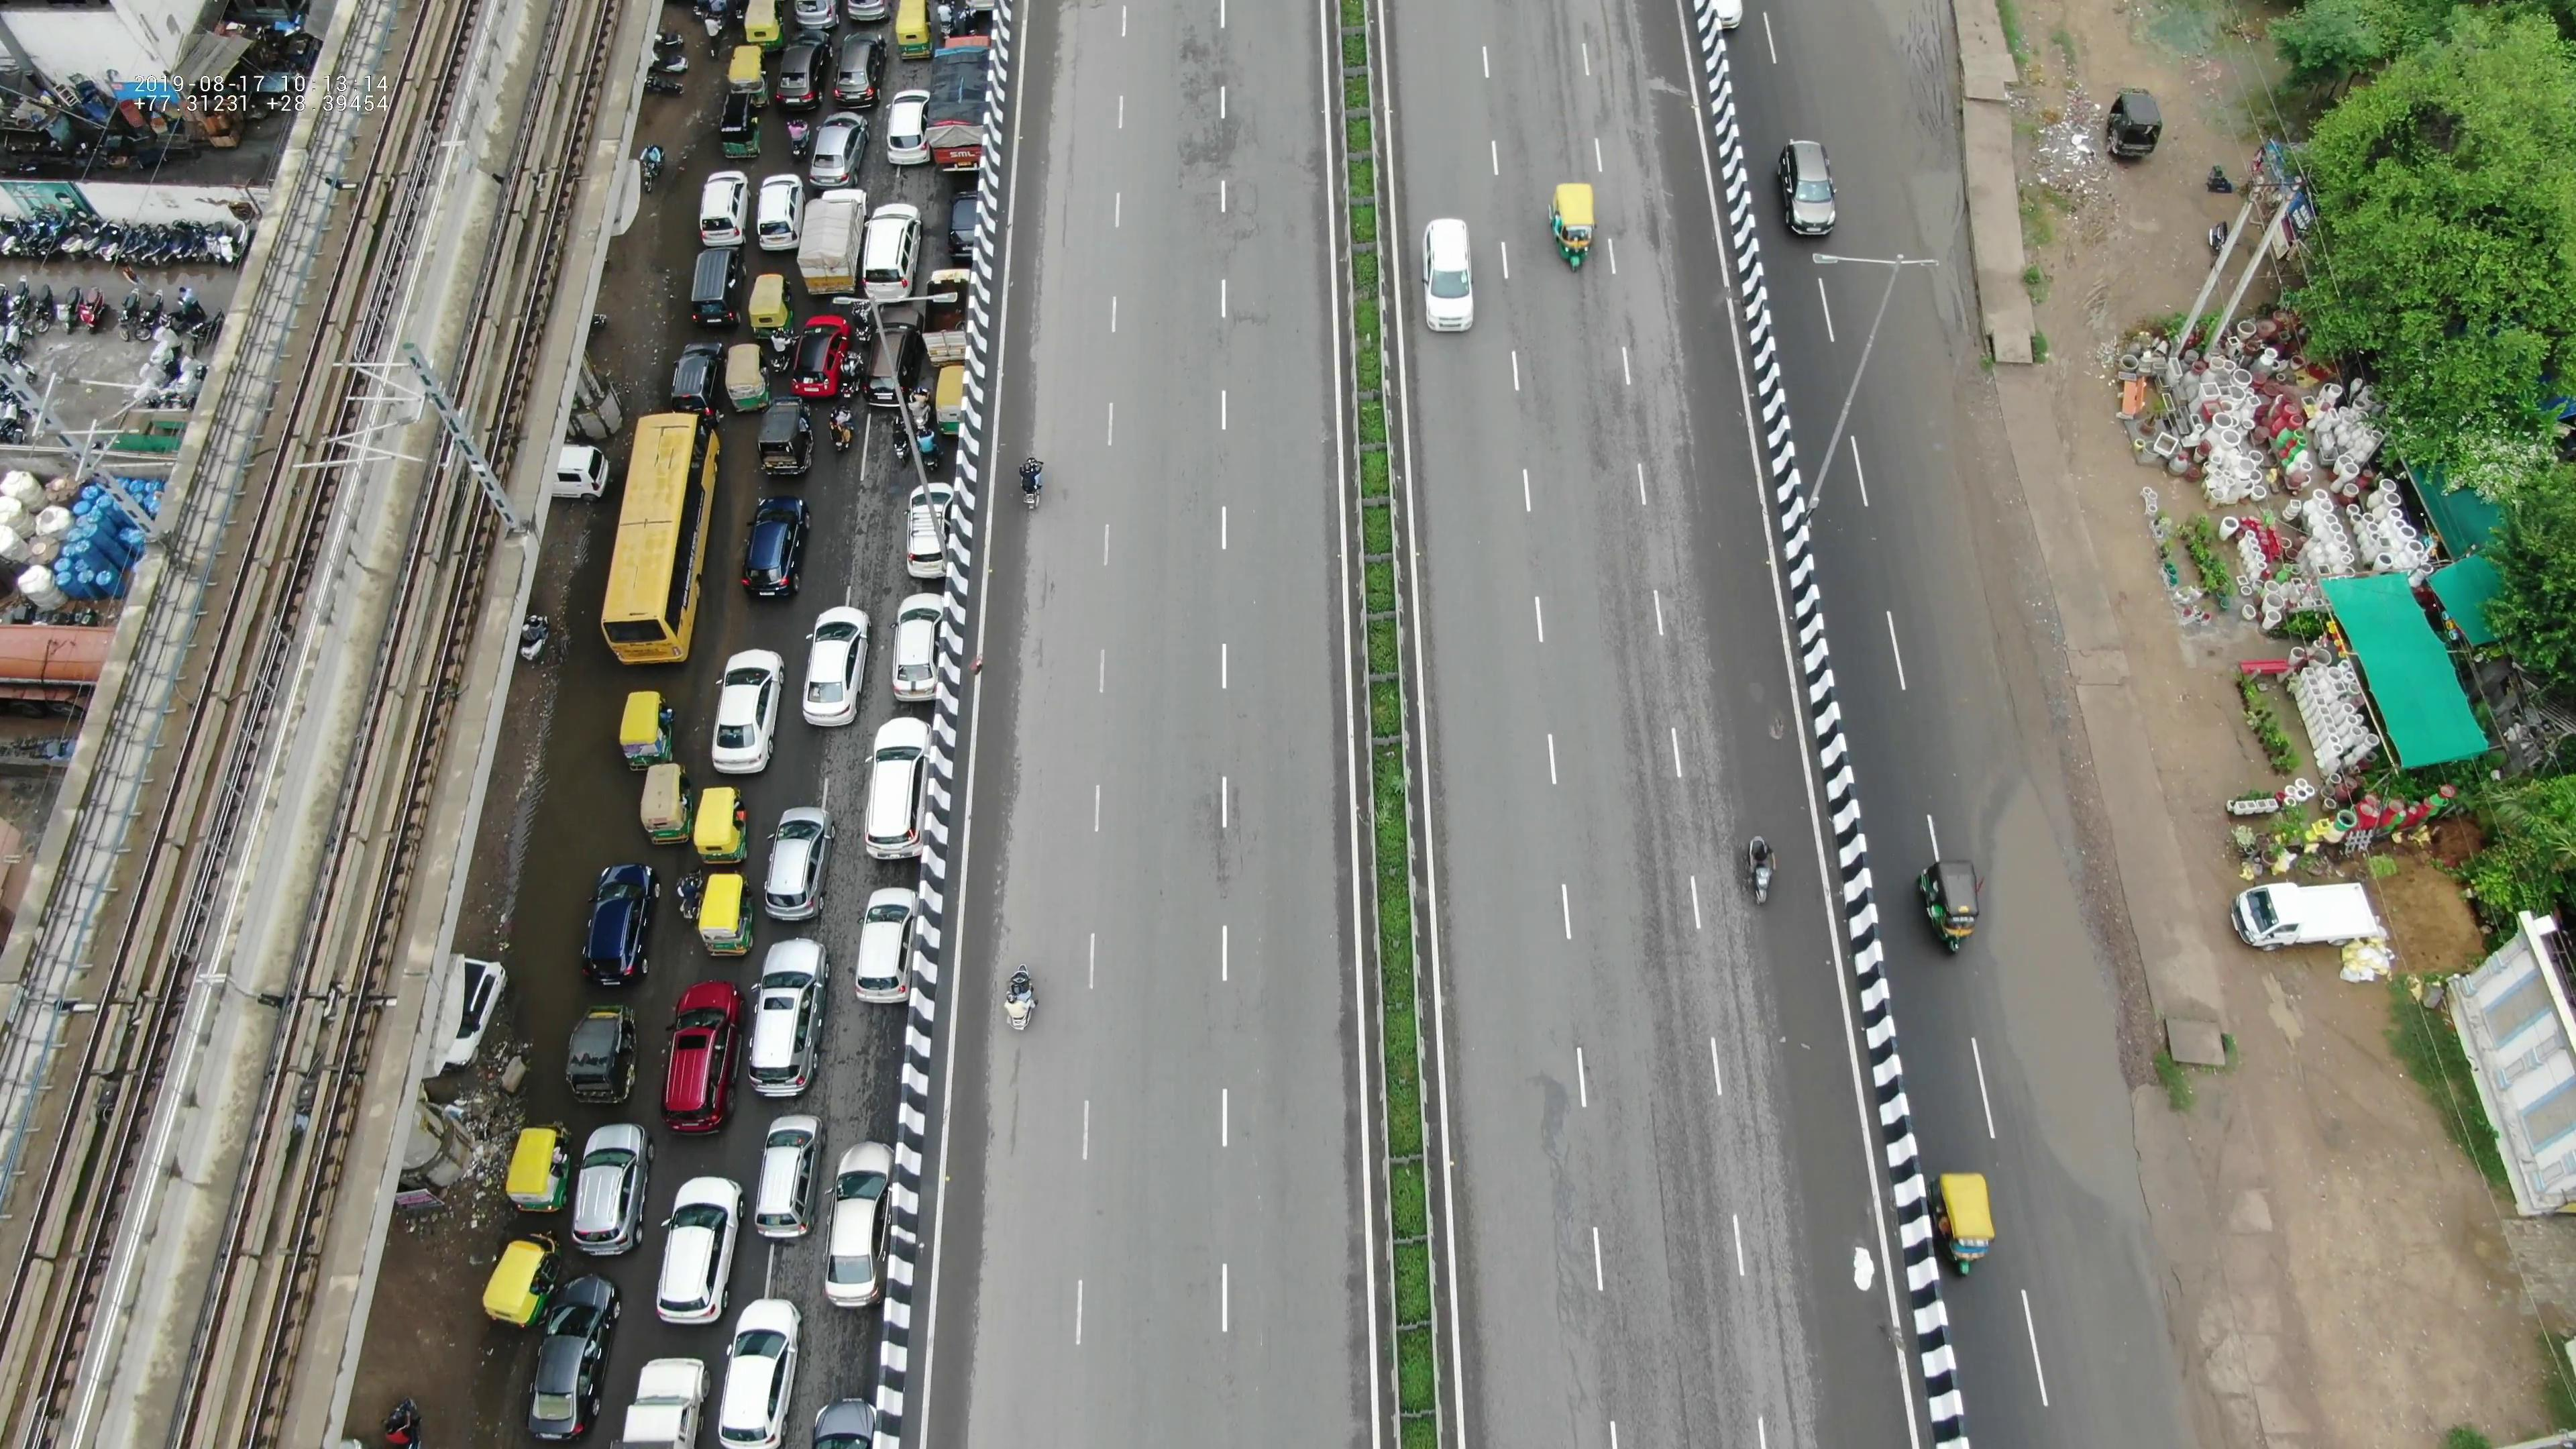Hair_cracks: (1527, 1074, 1658, 1442), (1162, 80, 1299, 329)
Waterlogging: (1978, 794, 2148, 1201)
